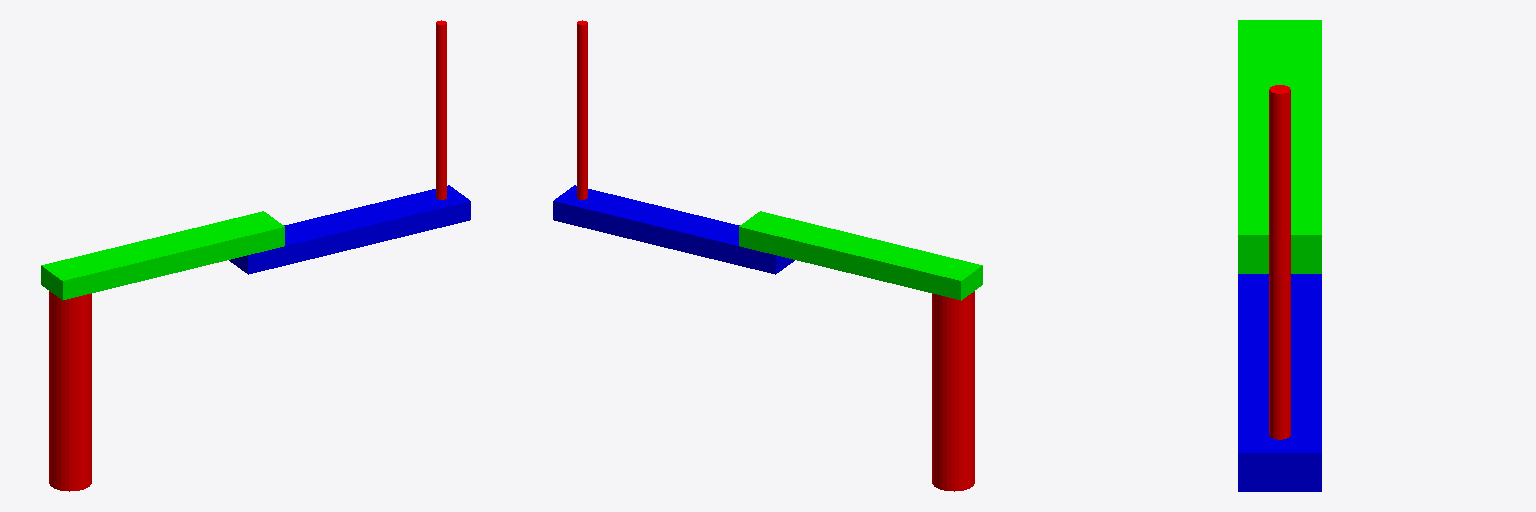
URDF robot description (my_robot):
<?xml version="1.0"?>
<robot name="my_robot">
  
  <!-- materialy -->
  <material name="red">
    <color rgba="1.0 0.0 0.0 1.0"/>
  </material>
  
  <material name="green">
    <color rgba="0.0 1.0 0.0 1.0"/>
  </material>
  
  <material name="blue">
    <color rgba="0.0 0.0 1.0 1.0"/>
  </material>
  
  
  <!-- czlony -->
  <link name="base_link">
    <visual>
      <geometry>
        <cylinder length="1" radius="0.1"/>
      </geometry>
      <origin rpy="0 0 0" xyz="0 0 0.5"/>
      <material name="red"/>
    </visual>
    <collision>
      <geometry>
        <cylinder length="1" radius="0.1"/>
      </geometry>
      <origin rpy="0 0 0" xyz="0 0 0.5"/>
    </collision>
    <inertial>
      <origin rpy="0 0 0" xyz="0 0 0.5"/>
      <mass value="10"/>
      <inertia ixx="0.86" ixy="0" ixz="0" iyy="0.86" iyz="0" izz="0.05"/>
    </inertial>
  </link>
  
  <link name="arm_link">
    <visual>
      <geometry>
        <box size="1.2 0.2 0.1"/>
      </geometry>
      <origin rpy="0 0 0" xyz="0.5 0 0.05"/>
      <material name="green"/>
    </visual>
    <collision>
      <geometry>
        <box size="1.2 0.2 0.1"/>
      </geometry>
      <origin rpy="0 0 0" xyz="0.5 0 0.05"/>
    </collision>
    <inertial>
      <origin rpy="0 0 0" xyz="0.5 0 0.05"/>
      <mass value="10"/>
      <inertia ixx="0.042" ixy="0" ixz="0" iyy="1.21" iyz="0" izz="1.23"/>
    </inertial>
  </link>
  
  <link name="forearm_link">
    <visual>
      <geometry>
        <box size="1.2 0.2 0.1"/>
      </geometry>
      <origin rpy="0 0 0" xyz="0.5 0 0.05"/>
      <material name="blue"/>
    </visual>
    <collision>
      <geometry>
        <box size="1.2 0.2 0.1"/>
      </geometry>
      <origin rpy="0 0 0" xyz="0.5 0 0.05"/>
    </collision>
    <inertial>
      <origin rpy="0 0 0" xyz="0.5 0 0.05"/>
      <mass value="10"/>
      <inertia ixx="0.042" ixy="0" ixz="0" iyy="1.21" iyz="0" izz="1.23"/>
    </inertial>
  </link>
  
  <link name="column_link">
    <visual>
      <geometry>
        <cylinder length="1" radius="0.025"/>
      </geometry>
      <origin rpy="0 0 0" xyz="0 0 -0.5"/>
      <material name="red"/>
    </visual>
    <collision>
      <geometry>
        <cylinder length="1" radius="0.025"/>
      </geometry>
      <origin rpy="0 0 0" xyz="0 0 -0.5"/>
    </collision>
    <inertial>
      <origin rpy="0 0 0" xyz="0 0 -0.5"/>
      <mass value="5"/>
      <inertia ixx="0.42" ixy="0" ixz="0" iyy="0.42" iyz="0" izz="0.0016"/>
    </inertial>
  </link>
  
  
  <!-- zlacza -->
  <joint name="shoulder_joint" type="revolute">
    <parent link="base_link"/>
    <child link="arm_link"/>
    <axis xyz="0 0 1"/>
    <origin rpy="0 0 0" xyz="0 0 1"/>
    <limit effort="1000.0" lower="-6.28" upper="6.28" velocity="1.0"/>
  </joint>
  
  <joint name="elbow_joint" type="revolute">
    <parent link="arm_link"/>
    <child link="forearm_link"/>
    <axis xyz="0 0 1"/>
    <origin rpy="0 0 0" xyz="1 0 -0.1"/>
    <limit effort="1000.0" lower="-6.28" upper="6.28" velocity="1.0"/>
  </joint>
  
  <joint name="wrist_joint" type="prismatic">
    <parent link="forearm_link"/>
    <child link="column_link"/>
    <axis xyz="0 0 1"/>
    <origin rpy="3.1416 0 0" xyz="1 0 0"/>
    <limit effort="1000.0" lower="0" upper="0.9" velocity="10.0"/>
  </joint>
  
</robot>

--- What the picture shows (computed from the rendered views, not written in the file) ---
Views: 3 orthographic renders of the robot side by side, from view 1: azimuth 30°, elevation 25°; view 2: azimuth 150°, elevation 25°; view 3: azimuth 270°, elevation 25°.
Model my_robot with 4 links and 3 joints (2 revolute, 1 prismatic), rooted at base_link, posed all joints at 0.
Links seen in each view (by area): view 1: arm_link, base_link, forearm_link, column_link; view 2: arm_link, base_link, forearm_link, column_link; view 3: arm_link, forearm_link, column_link.
Link boxes in pixels (x1,y1,x2,y2): arm_link: (41,211,284,300); base_link: (49,291,91,491); forearm_link: (229,185,470,274); column_link: (436,20,446,199); arm_link: (739,211,982,300); base_link: (932,291,974,491); forearm_link: (553,185,794,274); column_link: (577,20,587,199); arm_link: (1238,20,1321,273); forearm_link: (1238,274,1321,491); column_link: (1269,85,1290,439).
Size in the robot's own frame: 2.2 by 0.2 by 1.9 metres.
Geometry: primitives only (box / cylinder / sphere), no mesh files.